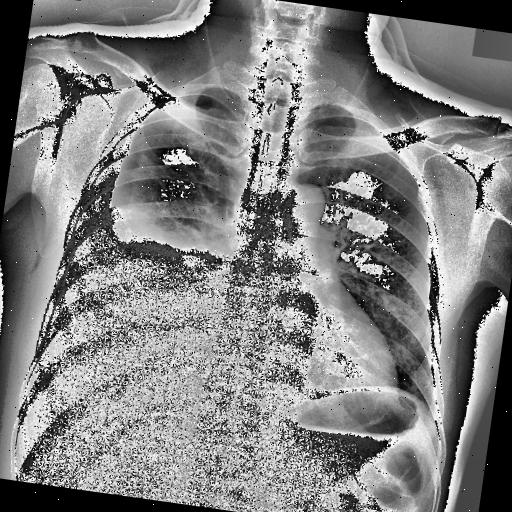10- Pleural effusion: (42, 106, 248, 406), (32, 98, 234, 381), (48, 114, 248, 398)
4- Consolidation: (100, 198, 182, 260)
7- Lung Opacity: (100, 198, 182, 260), (105, 206, 162, 244)
